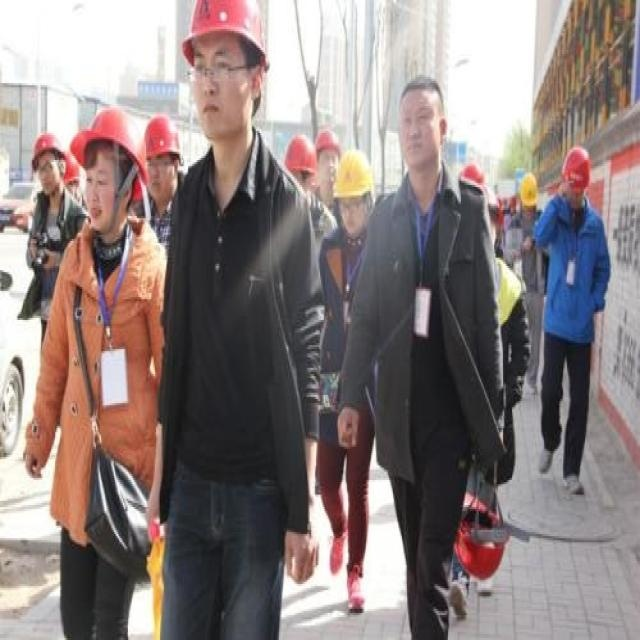Con_Casco: (184, 0, 269, 135)
Sin_Casco_Mascarrilla: (395, 75, 445, 169)
Sin_Chaleco: (169, 171, 304, 478), (369, 189, 492, 471)
